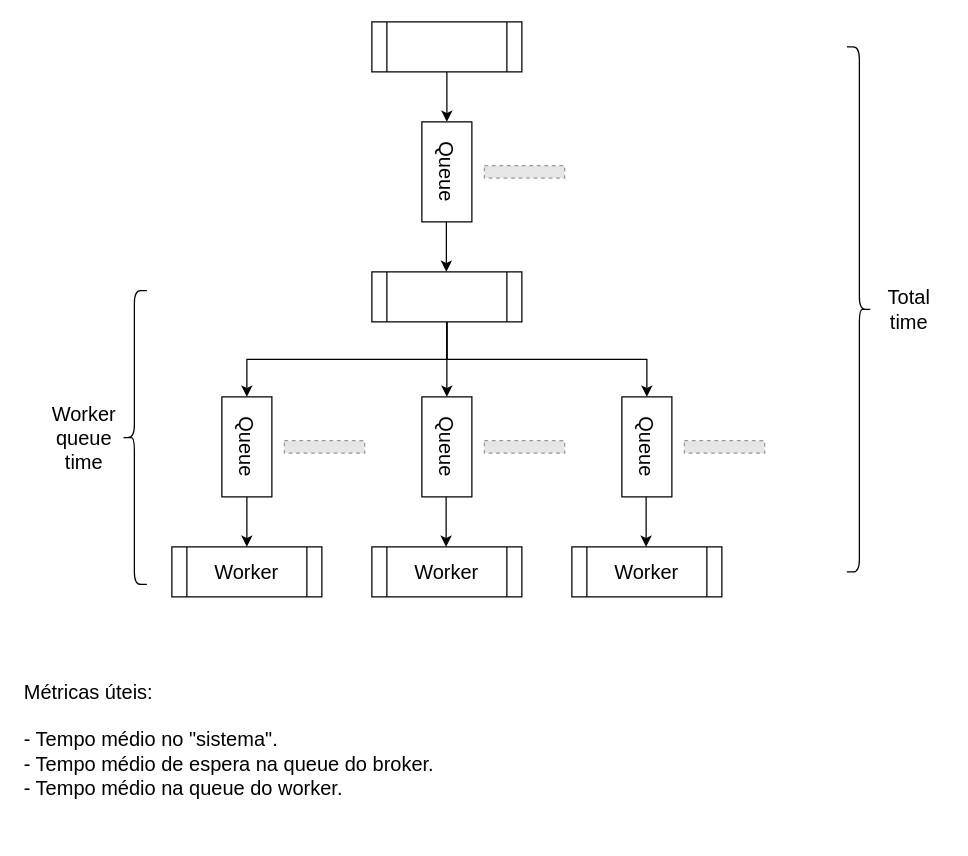
This 968x856 diagram has some shape labels left out. Grey dashed boxes stand in for pictures. The centre of each missing label's shape, as x and y in pixels:
Broker: (446,296)
Producer: (446,46)
